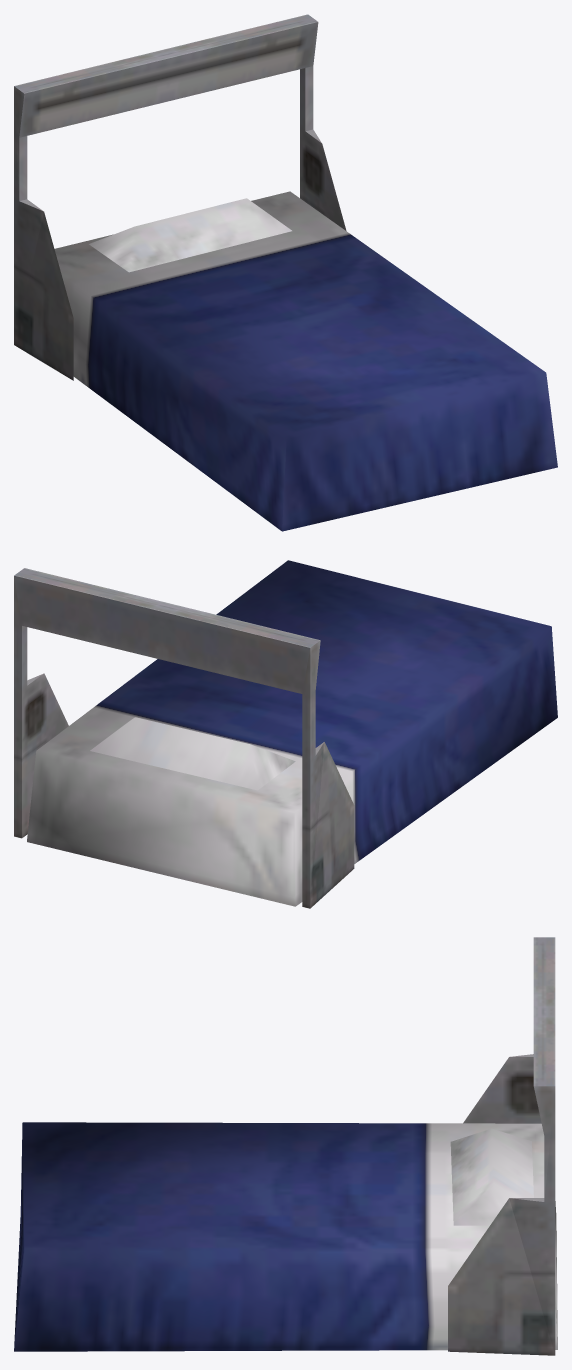
The model's file is frn_all_bed_sm_s2_l2.fbx.
The picture shows the model from 3 angles, top to bottom: view 1: azimuth 30°, elevation 25°; view 2: azimuth 150°, elevation 25°; view 3: azimuth 270°, elevation 25°; orthographic projection. The views are drawn at different scales.
Parts seen in each view (by area): view 1: mesh_node; view 2: mesh_node; view 3: mesh_node.
Boxes of the visible parts, bbox=[...] form: mesh_node: bbox=[14, 14, 557, 531]; mesh_node: bbox=[14, 560, 557, 908]; mesh_node: bbox=[14, 937, 557, 1355].
Bounding box in the file's own units: 1.29 × 1.09 × 1.98.
Materials: 1 (1 with a texture image).
